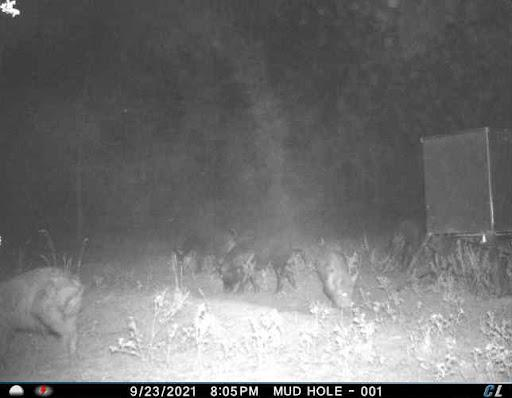Hog: (0, 262, 90, 371), (204, 219, 304, 301), (174, 217, 243, 279), (312, 237, 363, 311)
